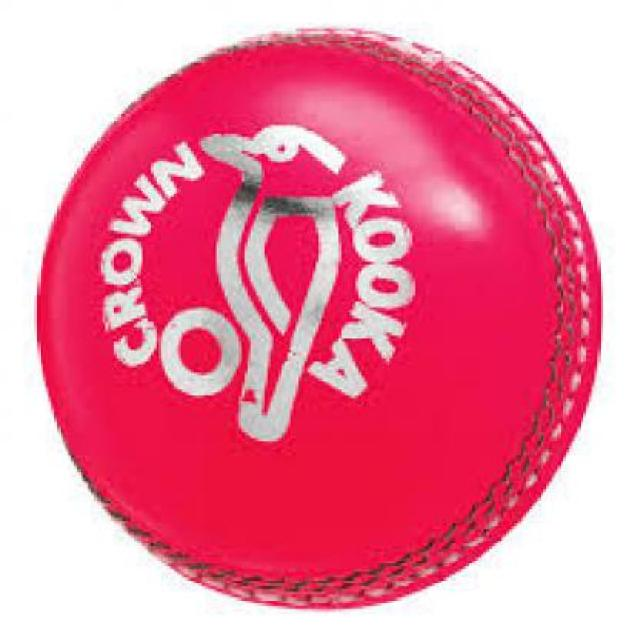ball: (29, 15, 616, 608)
